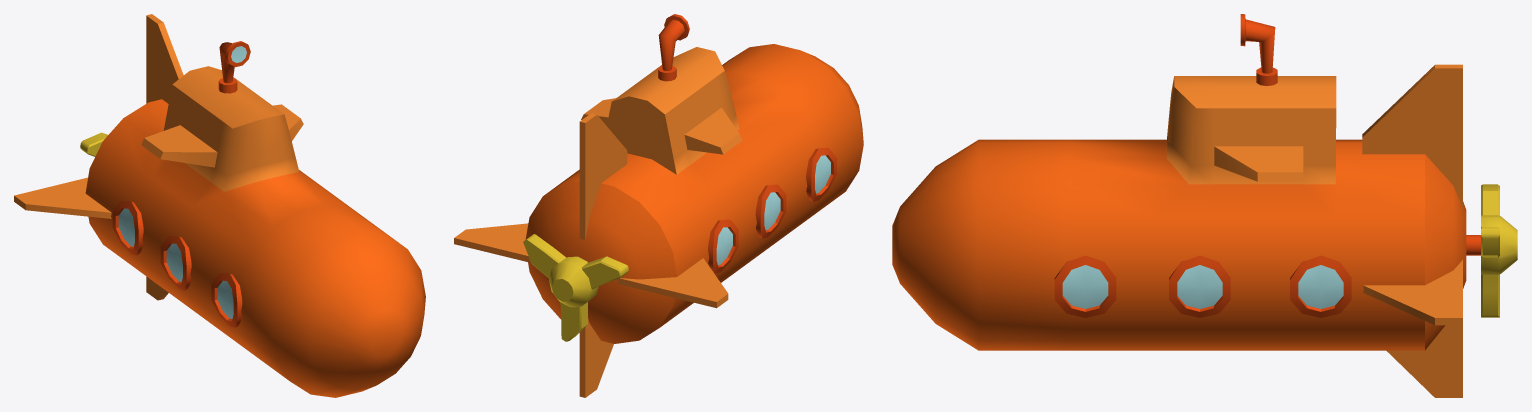
File: Sub_Player_Unwrap.FBX
3 renders of one model, left to right at view 1: azimuth 30°, elevation 25°; view 2: azimuth 150°, elevation 25°; view 3: azimuth 270°, elevation 25°, orthographic. The views are drawn at different scales.
Visible parts, largest first — view 1: Cylinder001, Cylinder012; view 2: Cylinder001, Cylinder012; view 3: Cylinder001, Cylinder012.
Part boxes in pixels (left/top/right/bottom): Cylinder001: left=14, top=14, right=425, bottom=397; Cylinder012: left=80, top=132, right=107, bottom=156; Cylinder001: left=454, top=14, right=863, bottom=397; Cylinder012: left=523, top=234, right=628, bottom=341; Cylinder001: left=892, top=14, right=1480, bottom=397; Cylinder012: left=1481, top=184, right=1517, bottom=317.
Size of the model in its own units: 71.44 by 81.96 by 123.
